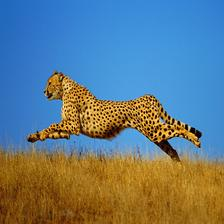Cheetah: (26, 69, 205, 168)
